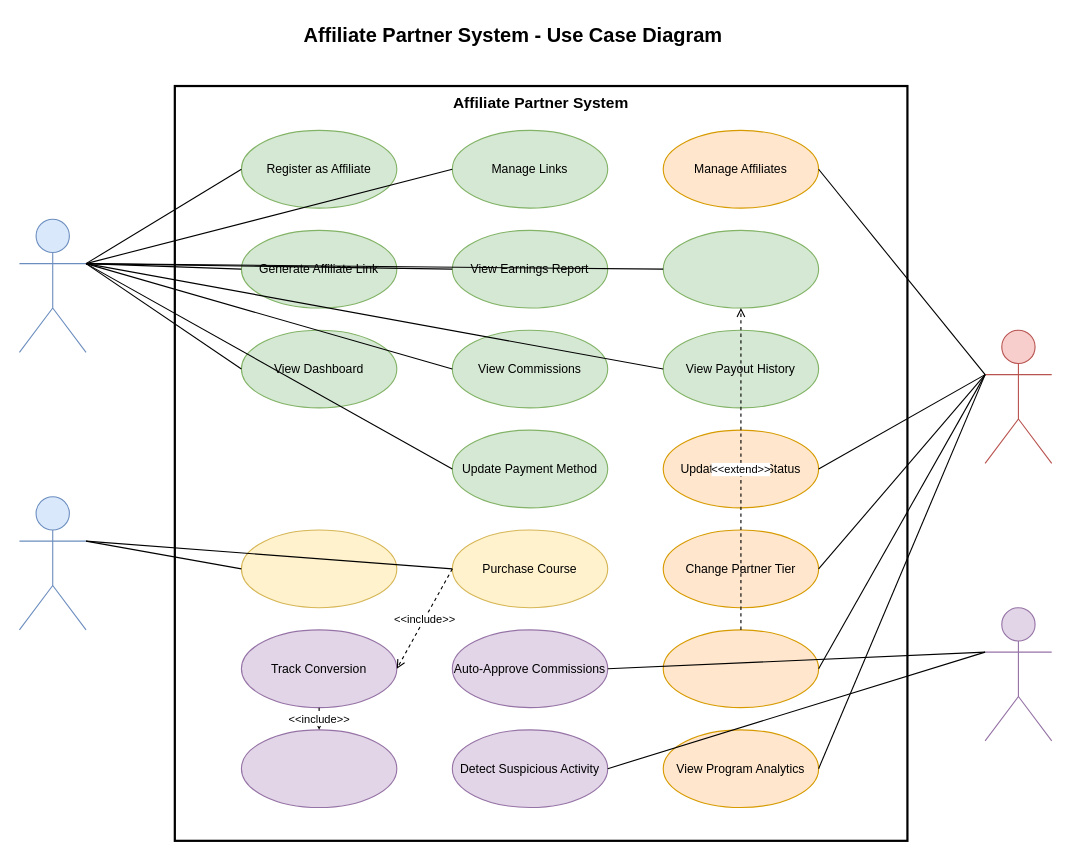
Image size: 1090x860. Some labels were removed from this diagram. Here are the shapes that lost their labels. From the top down, the centre of each, then its label:
[52,285]: Affiliate
[740,268]: Request Payout
[1018,396]: Administrator
[52,563]: Customer
[318,568]: Click Affiliate Link
[740,668]: Process Payout
[1018,674]: System (Background Job)
[318,768]: Calculate Commission
